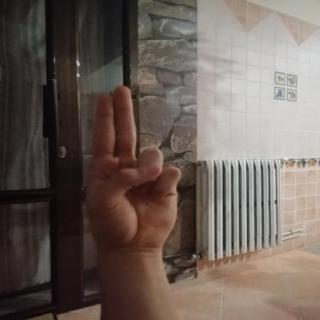TA: (70, 77, 194, 258)
